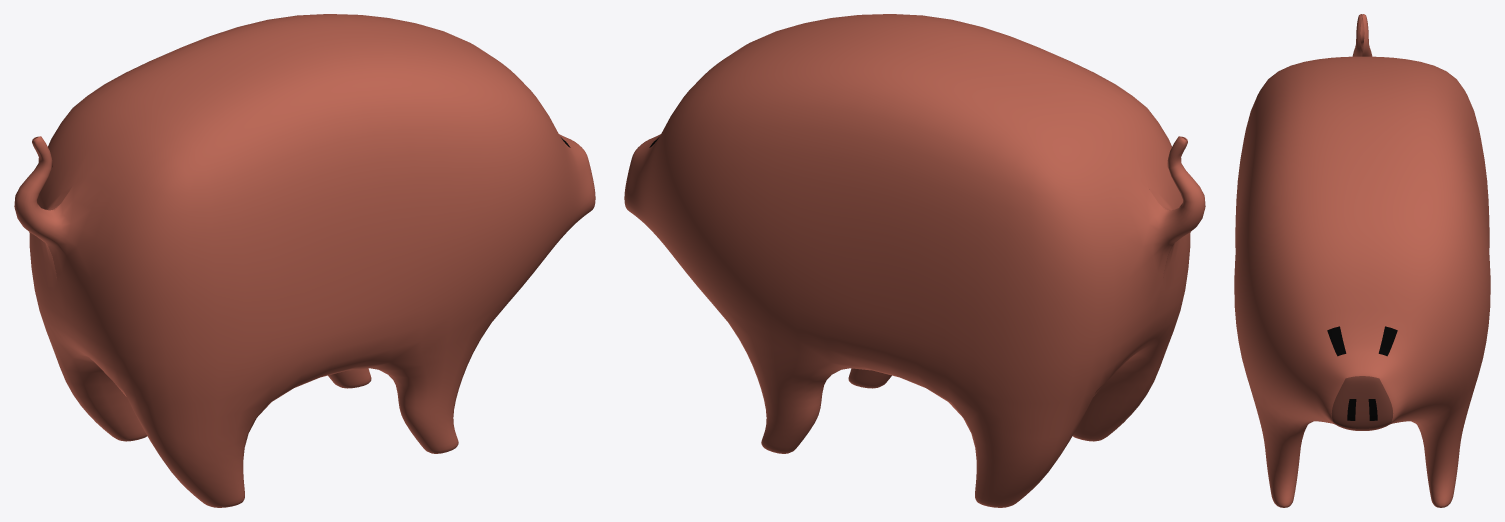
File: pig.fbx
The picture shows the model from 3 angles, left to right: view 1: azimuth 30°, elevation 25°; view 2: azimuth 150°, elevation 25°; view 3: azimuth 270°, elevation 25°; orthographic projection. The views are drawn at different scales.
Parts seen in each view (by area): view 1: pig; view 2: pig; view 3: pig.
Part boxes in pixels (x1,y1,x2,y2): pig: (14, 14, 595, 507); pig: (624, 14, 1205, 507); pig: (1234, 14, 1490, 507).
Bounding box in the file's own units: 489 × 332 × 214.
